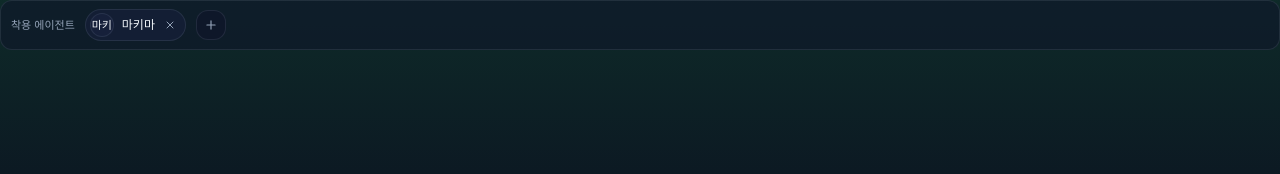
ConfigLinkedAgentsRow — CFG-C wear editing › adds a wear link via the + popover (only unworn agents offered)
This screenshot has width=1280, height=174.
Later steps or results of the test are not shown.
Click the button titled "착용 에이전트 추가".
click(211, 25)  # box [196,10,226,40]
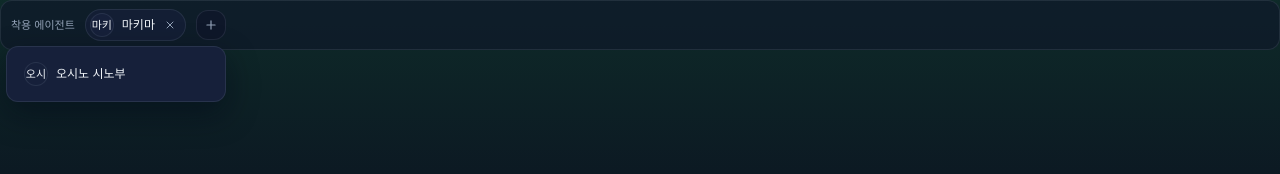
Expected: the element with class "config-v2__picker" does not show "마키마"
Now the element with class "config-v2__picker" shows "오시노 시노부", box [15,55,217,93]
